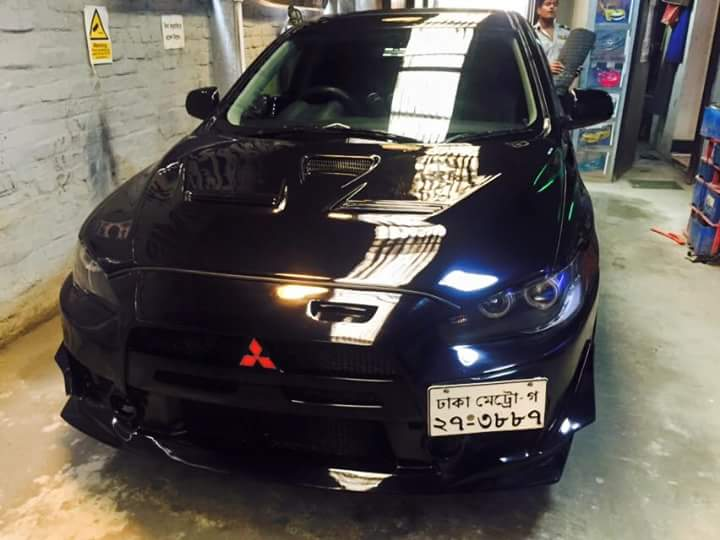registration_plate: (427, 377, 548, 437)
